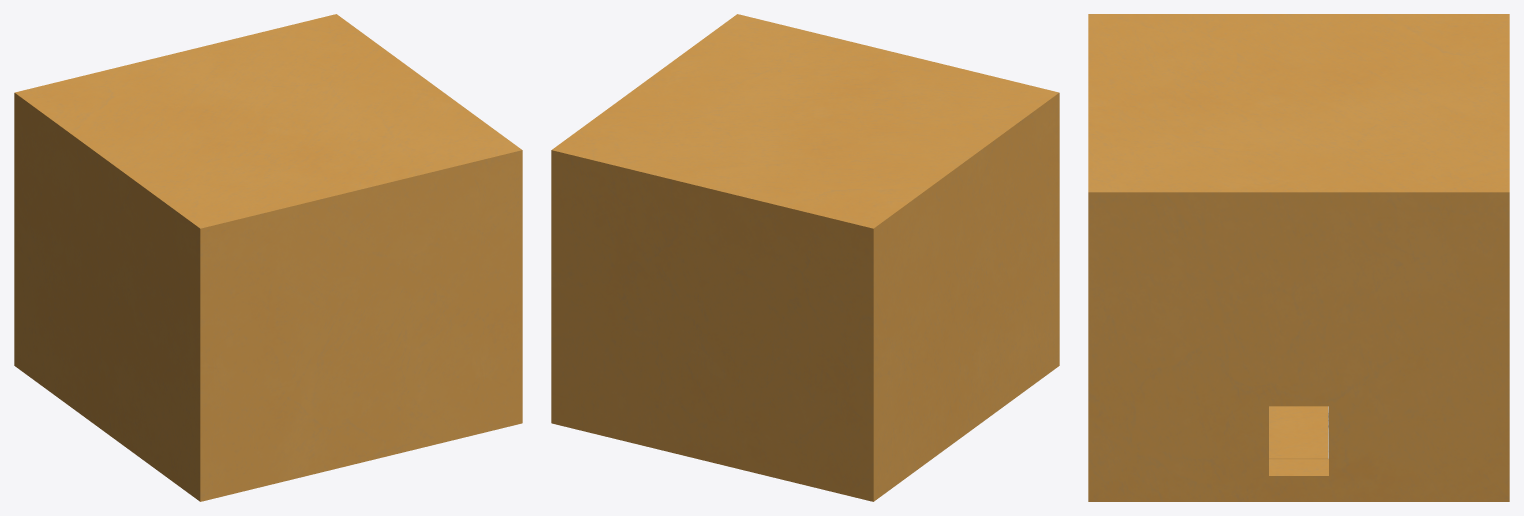
The model's file is greek temple.dae.
The picture shows the model from 3 angles, left to right: view 1: azimuth 30°, elevation 25°; view 2: azimuth 150°, elevation 25°; view 3: azimuth 270°, elevation 25°; orthographic projection. The views are drawn at different scales.
Visible parts, largest first — view 1: Cube; view 2: Cube; view 3: Cube.
Part boxes in pixels (box(x1,y1,x2,y2)): Cube: box(14, 14, 522, 501); Cube: box(551, 14, 1059, 501); Cube: box(1088, 14, 1509, 501).
Bounding box in the file's own units: 2 × 2 × 1.62.
Materials: 4 (4 with a texture image).
